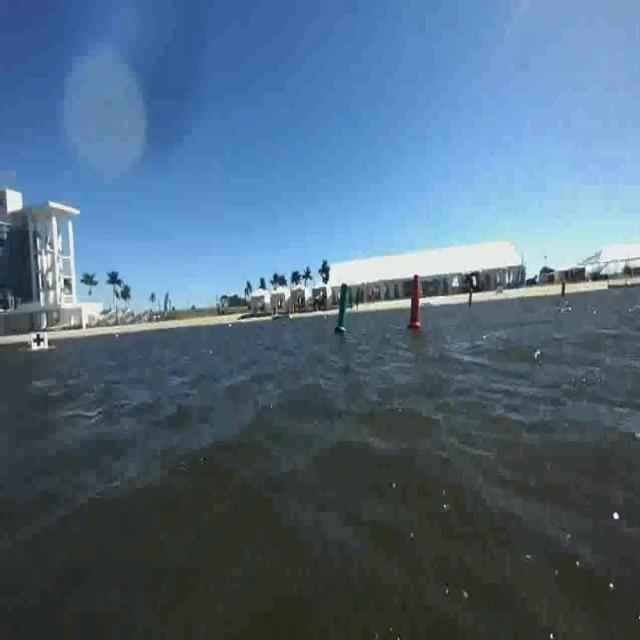green-column-buoy: (336, 282, 352, 335)
red-column-buoy: (407, 273, 425, 333)
